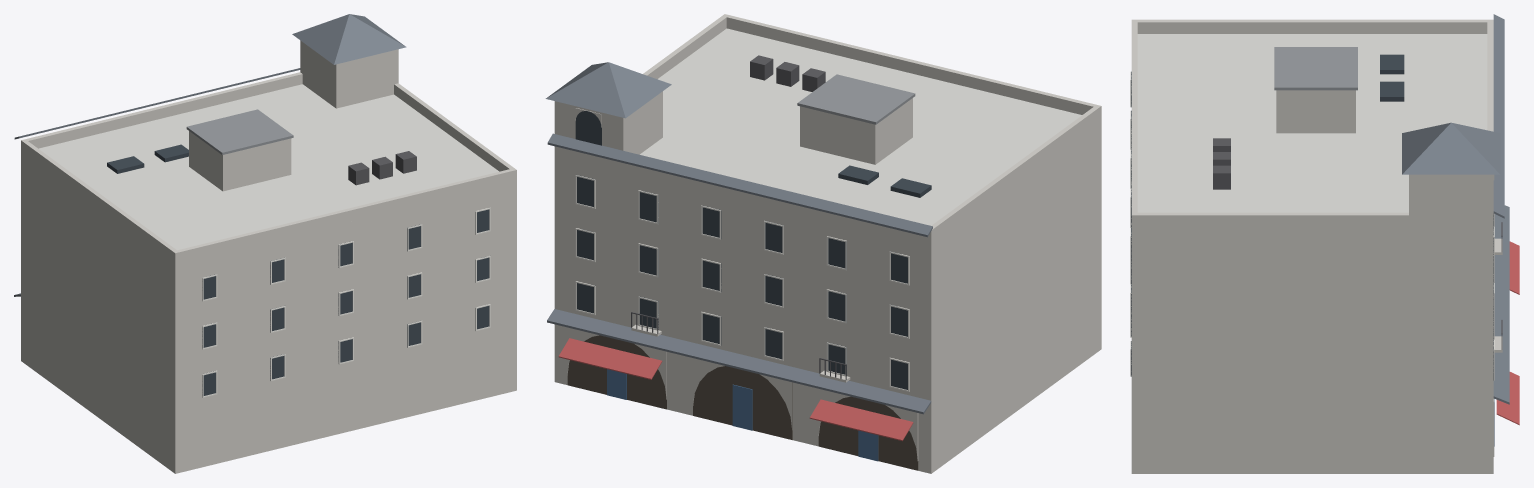
The model's file is ca_mainstreet4.glb.
3 views of the same model, side by side, from view 1: azimuth 30°, elevation 25°; view 2: azimuth 150°, elevation 25°; view 3: azimuth 270°, elevation 25° (orthographic). The views are drawn at different scales.
Visible parts, largest first — view 1: ca_mainstreet4; view 2: ca_mainstreet4; view 3: ca_mainstreet4.
Boxes of the visible parts, x1,y1,x2,y2 form: ca_mainstreet4: (14,14,516,473); ca_mainstreet4: (545,14,1101,473); ca_mainstreet4: (1130,14,1519,473).
Size of the model in its own units: 23.45 by 18.3 by 19.36.
